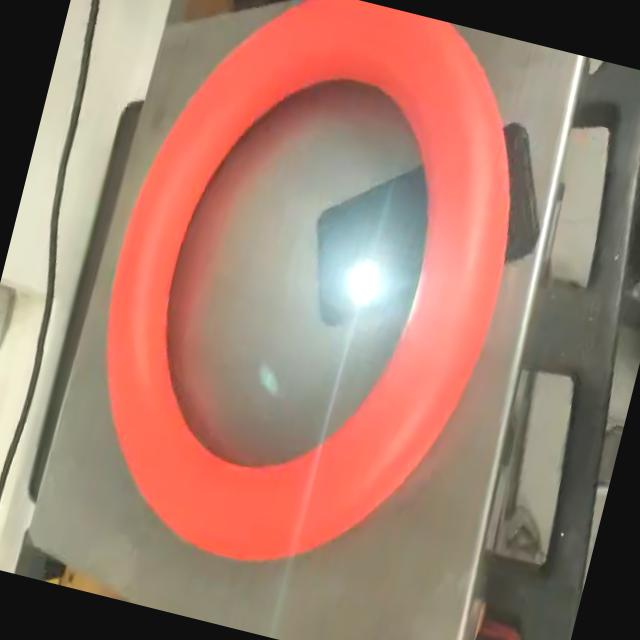note: (52, 0, 559, 609)
